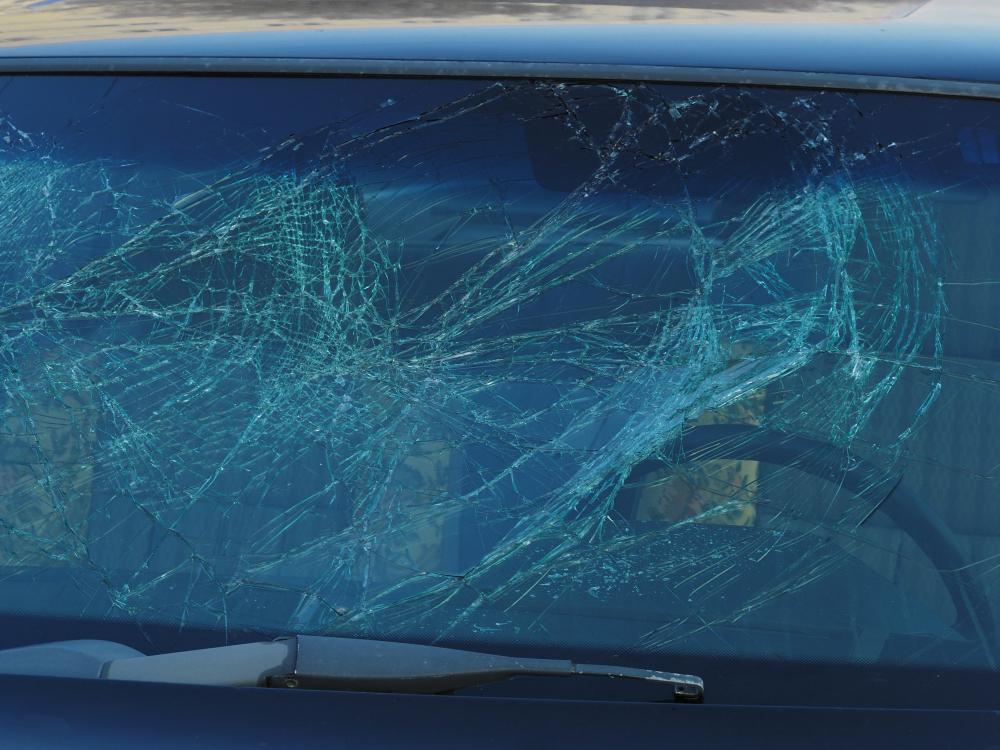glass shatter: (0, 73, 1000, 710)
